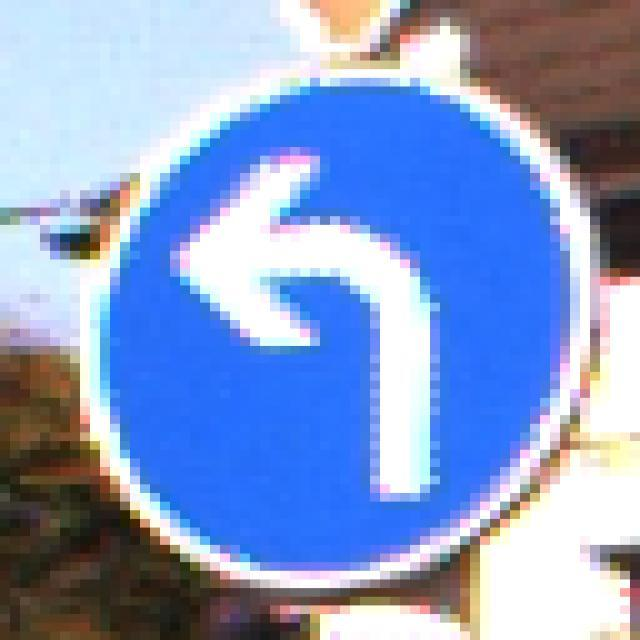compulsary turn left ahead: (77, 66, 601, 592)
